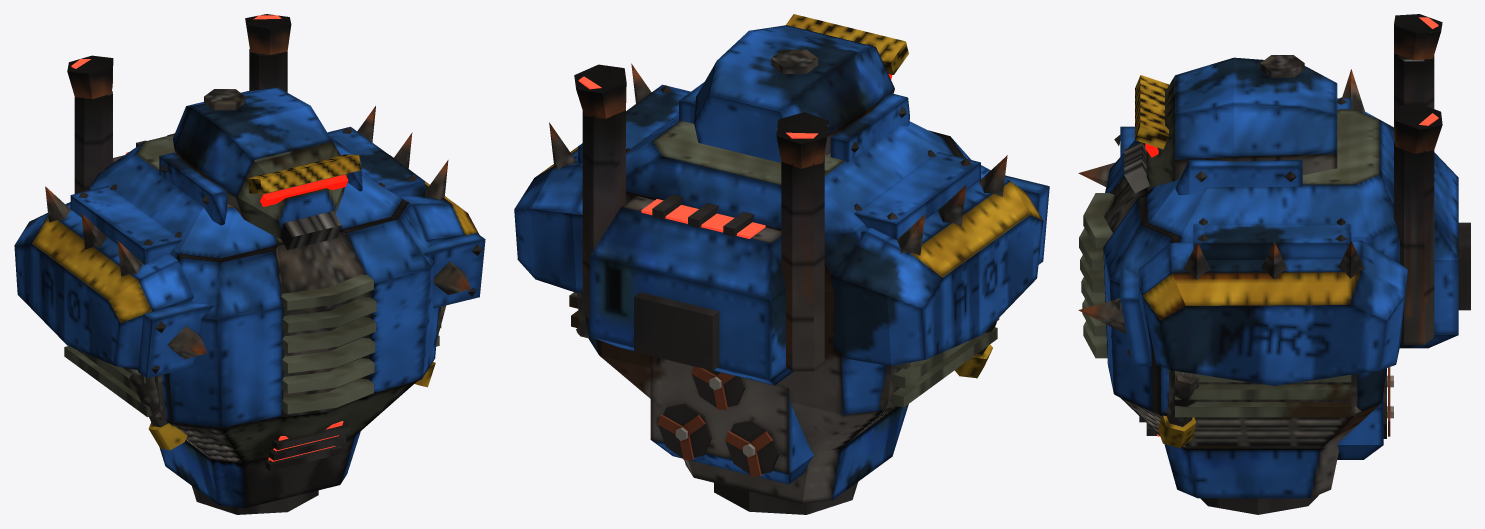
Rendered from ArmorTorsoY.glb.
3 renders of one model, left to right at view 1: azimuth 30°, elevation 25°; view 2: azimuth 150°, elevation 25°; view 3: azimuth 270°, elevation 25°, orthographic. The views are drawn at different scales.
Visible parts, largest first — view 1: ArmorTorsoY_Body, ArmorTorsoY_Head; view 2: ArmorTorsoY_Body, ArmorTorsoY_Head; view 3: ArmorTorsoY_Body, ArmorTorsoY_Head.
Part boxes in pixels (<box>): ArmorTorsoY_Body: <box>14,14,485,514</box>; ArmorTorsoY_Head: <box>159,87,362,250</box>; ArmorTorsoY_Body: <box>514,63,1049,514</box>; ArmorTorsoY_Head: <box>679,14,909,162</box>; ArmorTorsoY_Body: <box>1078,14,1470,514</box>; ArmorTorsoY_Head: <box>1124,55,1337,195</box>.
Size of the model in its own units: 10.9 by 11.4 by 9.69.
Materials: 18 (16 with a texture image).
